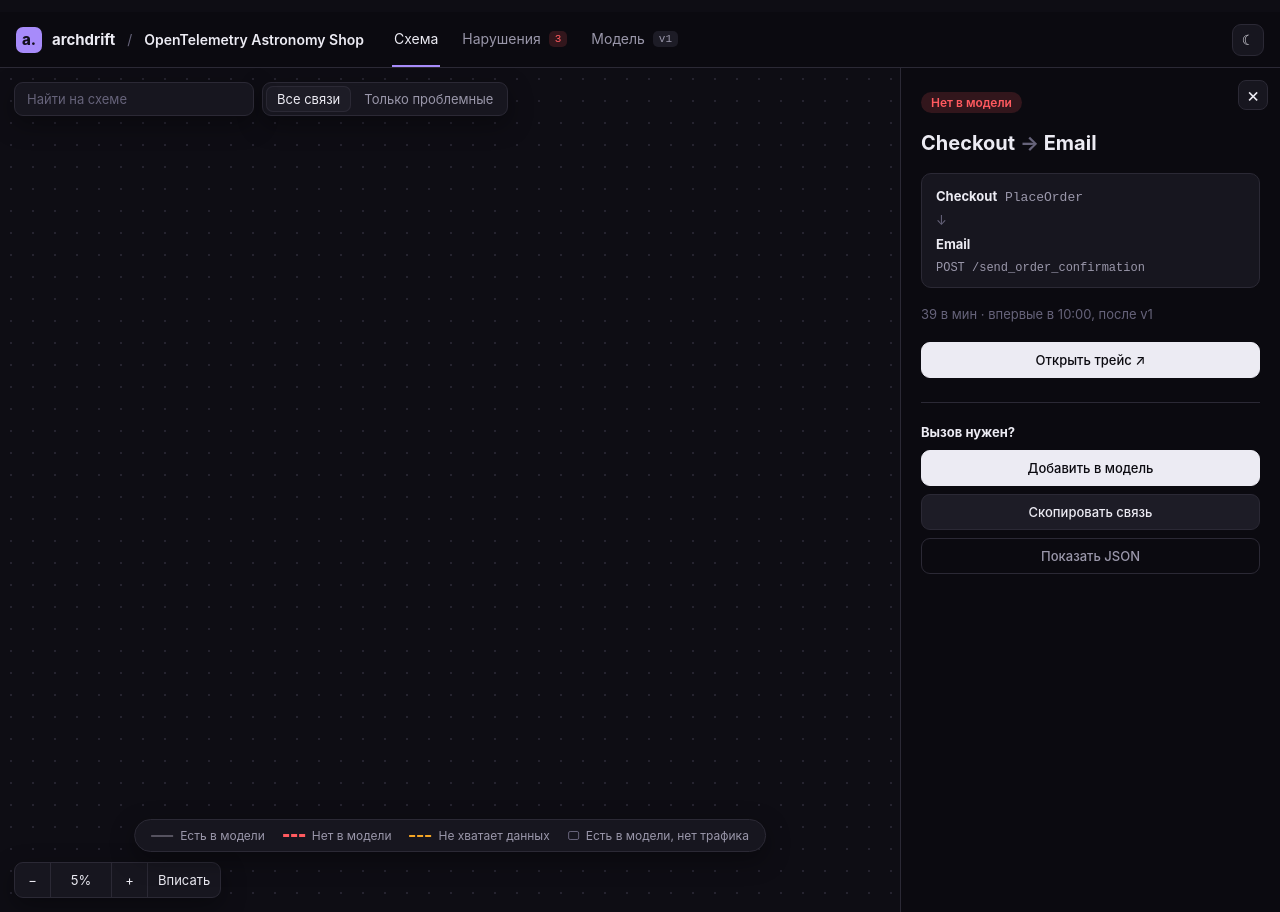
Test case: new architecture flow › preserves the model on add failure 409 and never retries automatically
The width and height of the screenshot is (1280, 912).
Click the button "Добавить в модель": (1090, 468) x1=921 y1=450 x2=1260 y2=486
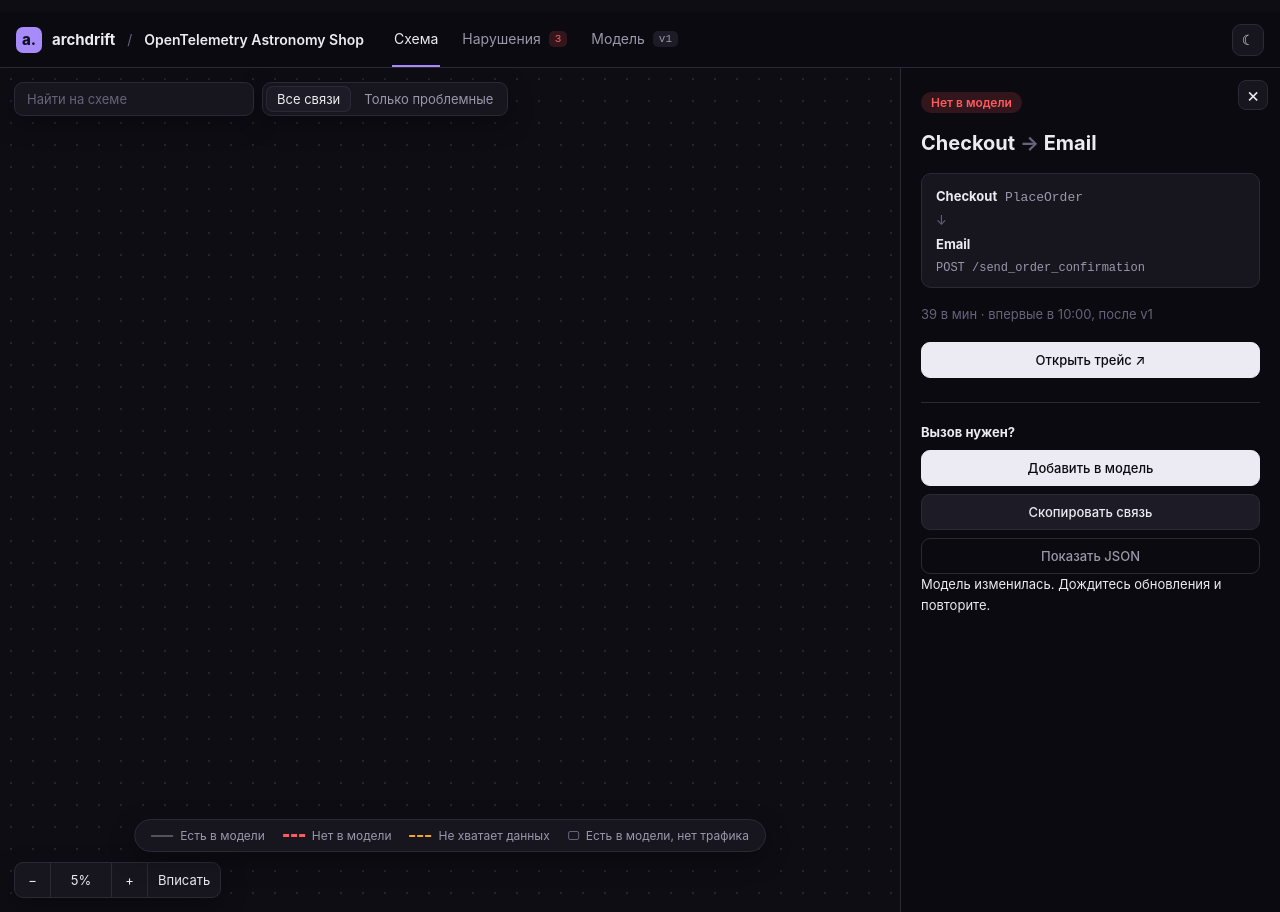
Expected: the tab "Модель v1" is shown, x1=589 y1=12 x2=680 y2=67
Now the message shows "Модель изменилась", box x1=921 y1=576 x2=1222 y2=613
